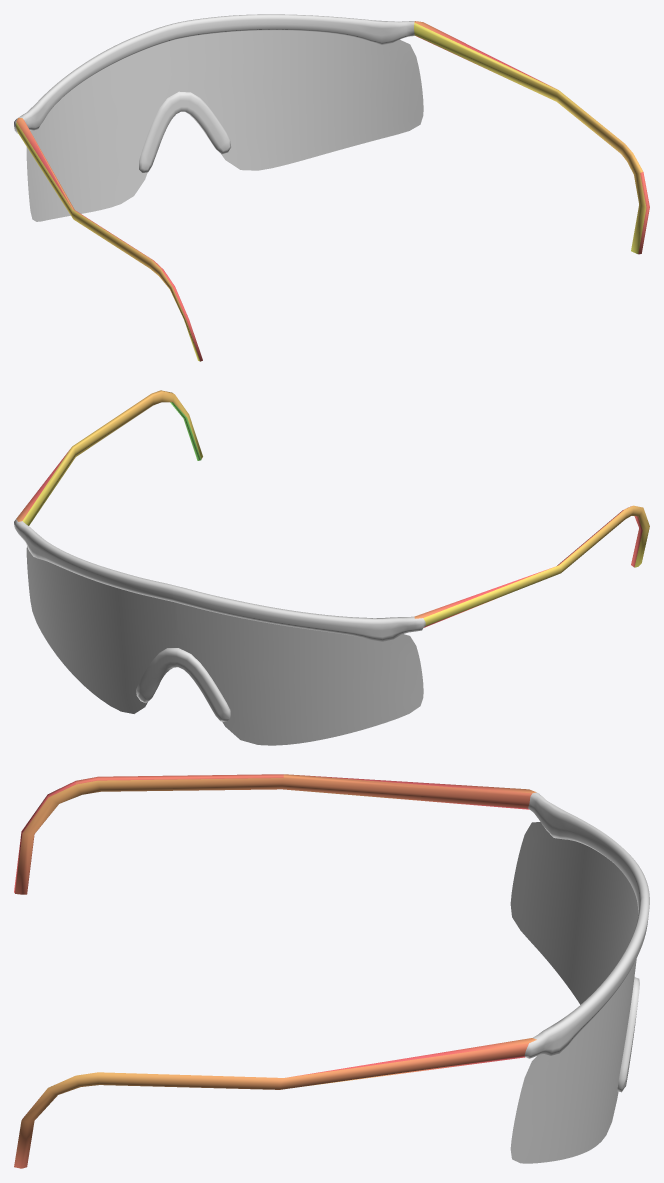
The model's file is Razors.fbx.
The picture shows the model from 3 angles, top to bottom: view 1: azimuth 30°, elevation 25°; view 2: azimuth 150°, elevation 25°; view 3: azimuth 270°, elevation 25°; orthographic projection. The views are drawn at different scales.
Parts seen in each view (by area): view 1: Razors Lo; view 2: Razors Lo; view 3: Razors Lo.
Part boxes in pixels (x1,y1,x2,y2): Razors Lo: (14, 14, 649, 361); Razors Lo: (14, 390, 649, 745); Razors Lo: (14, 774, 649, 1168).
Bounding box in the file's own units: 223 × 66.54 × 196.
Materials: 4 (1 with a texture image).
